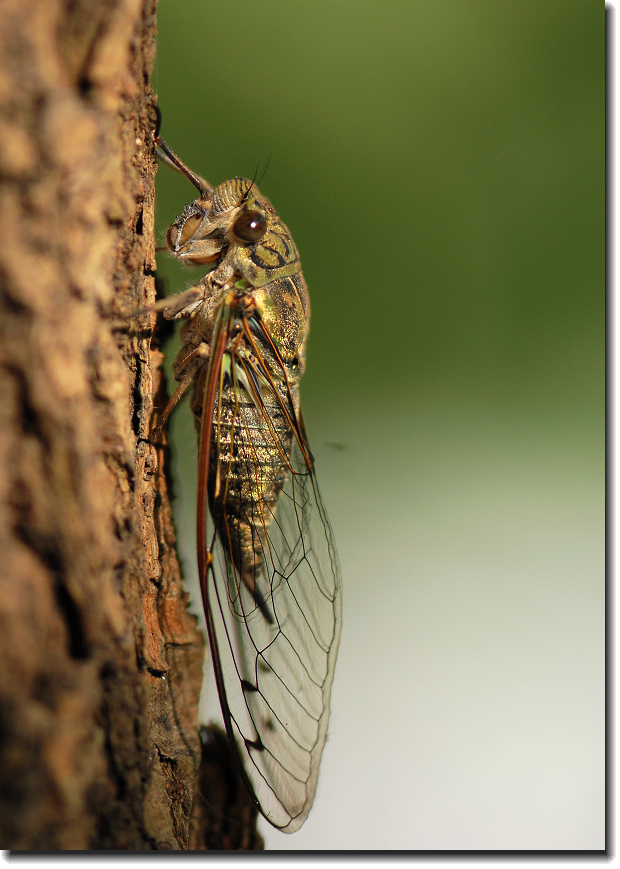chan: (110, 111, 345, 827)
